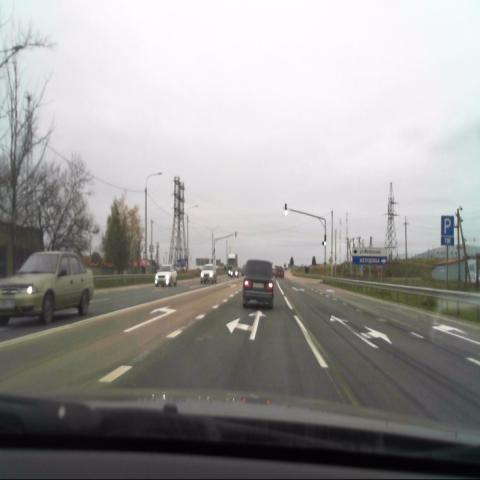6_4: (440, 214, 454, 236)
